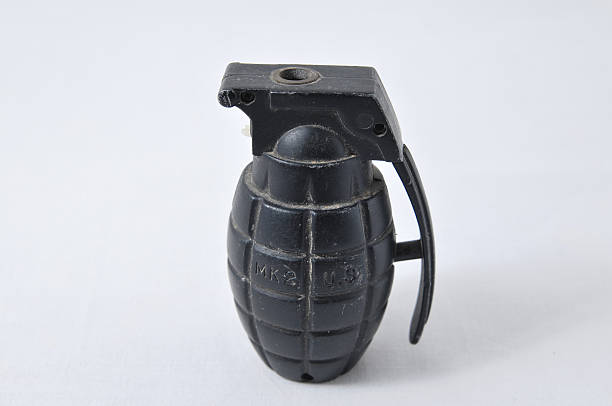e1: (214, 59, 437, 383)
